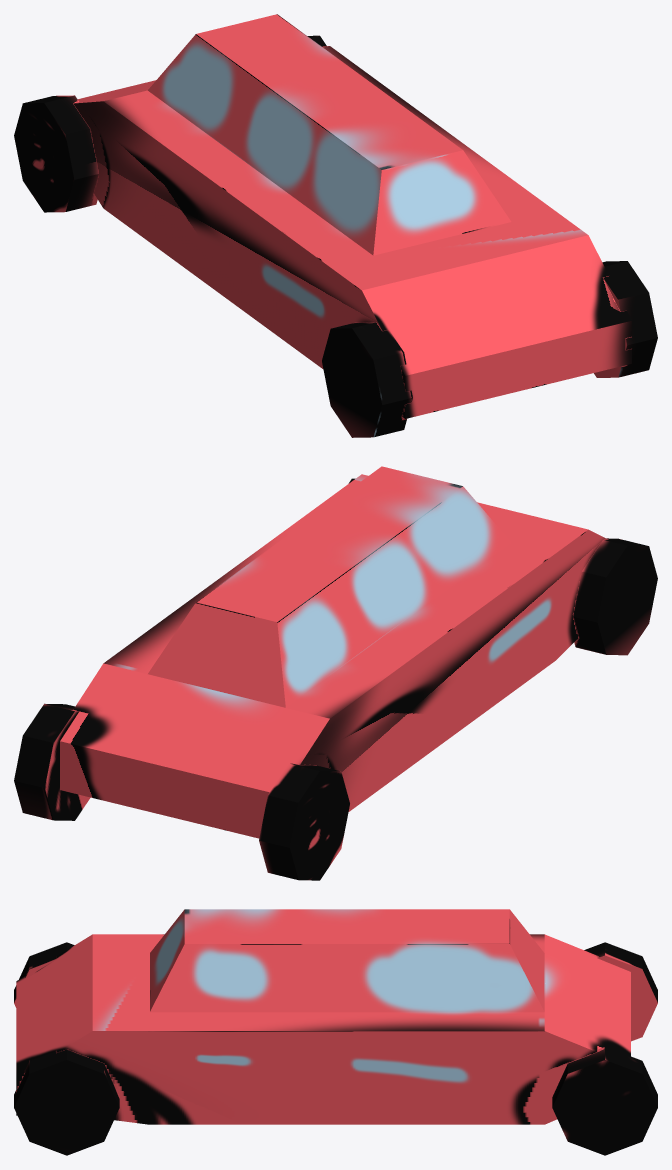
File: models.fbx
3 views of the same model, one above another, from view 1: azimuth 30°, elevation 25°; view 2: azimuth 150°, elevation 25°; view 3: azimuth 270°, elevation 25° (orthographic). The views are drawn at different scales.
Parts seen in each view (by area): view 1: Car; view 2: Car; view 3: Car.
Part boxes in pixels (bbox=[...]): Car: bbox=[14, 14, 657, 437]; Car: bbox=[14, 466, 657, 880]; Car: bbox=[14, 909, 657, 1155].
Size of the model in its own units: 9.97 by 6.73 by 23.05.
